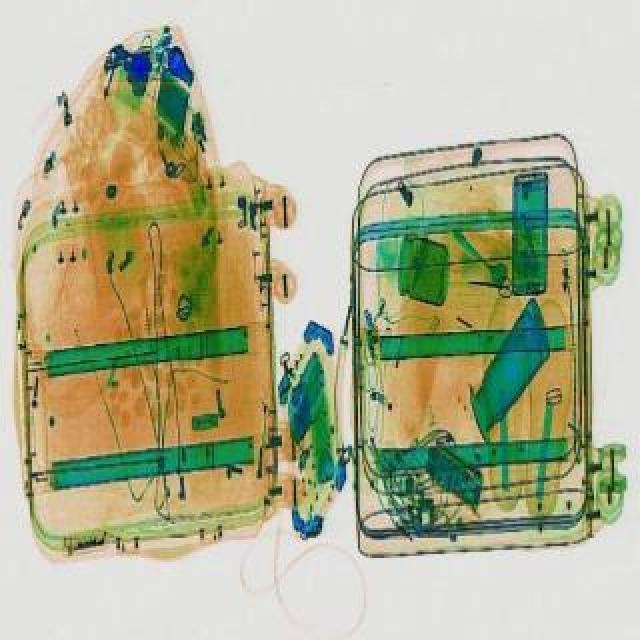pliers: (466, 272, 512, 294)
